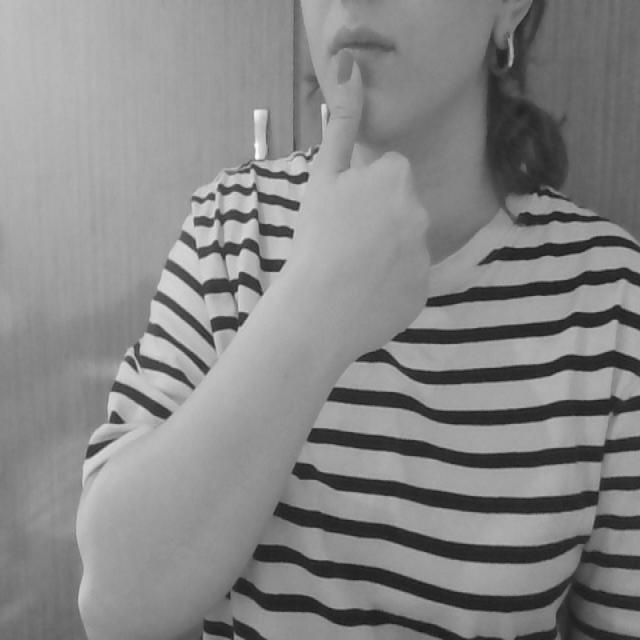Baba: (308, 15, 402, 160)
